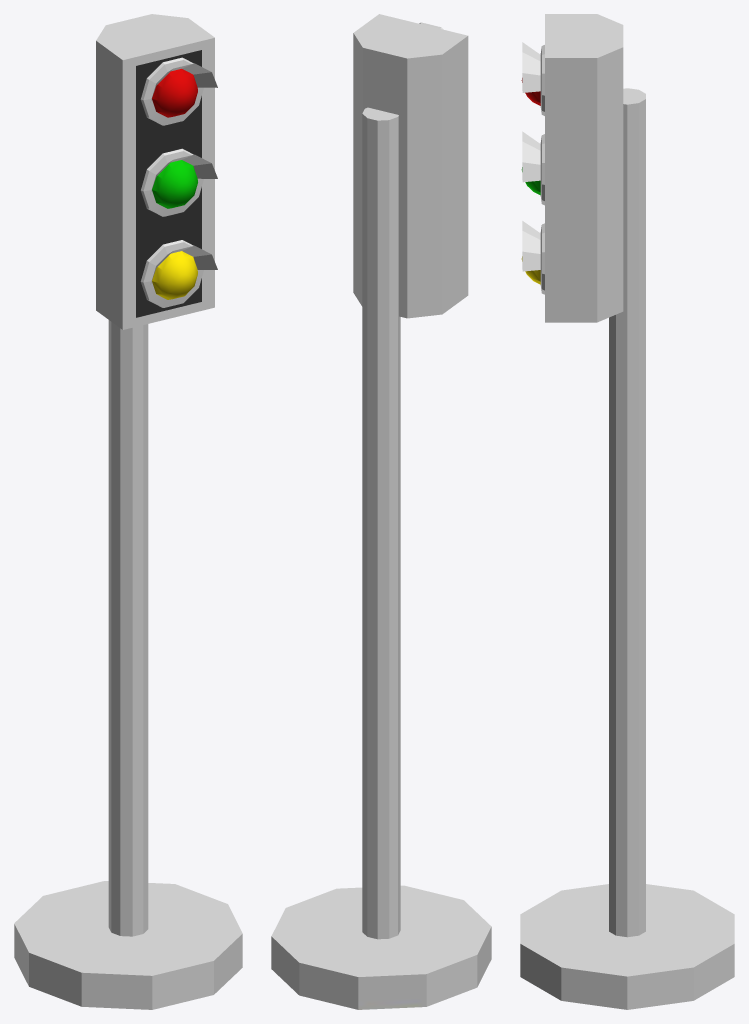
Rendered from Traffic Light.fbx.
3 renders of one model, left to right at view 1: azimuth 30°, elevation 25°; view 2: azimuth 150°, elevation 25°; view 3: azimuth 270°, elevation 25°, orthographic. The views are drawn at different scales.
Parts seen in each view (by area): view 1: Traffic_Light; view 2: Traffic_Light; view 3: Traffic_Light.
Part boxes in pixels (x1,y1,x2,y2): Traffic_Light: [14, 14, 242, 1009]; Traffic_Light: [271, 14, 491, 1009]; Traffic_Light: [520, 14, 734, 1009].
Size of the model in its own units: 37.42 by 170 by 35.59.
1 material, 1 textured.
